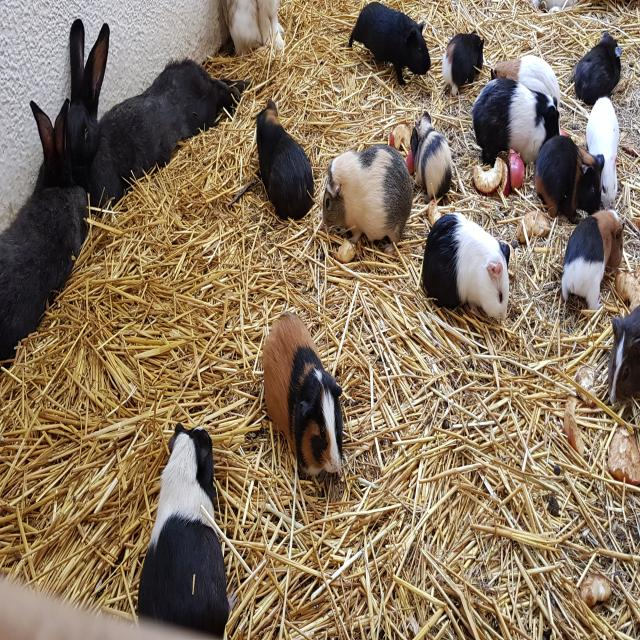guinea pig: (137, 420, 230, 638), (262, 310, 344, 480), (321, 140, 414, 257), (421, 210, 511, 325), (472, 78, 561, 175), (346, 1, 432, 89), (254, 98, 314, 222), (559, 206, 624, 312), (534, 134, 603, 222), (584, 80, 620, 202), (489, 52, 568, 107), (408, 109, 453, 203), (574, 23, 621, 105), (606, 293, 638, 411), (441, 27, 484, 92)
